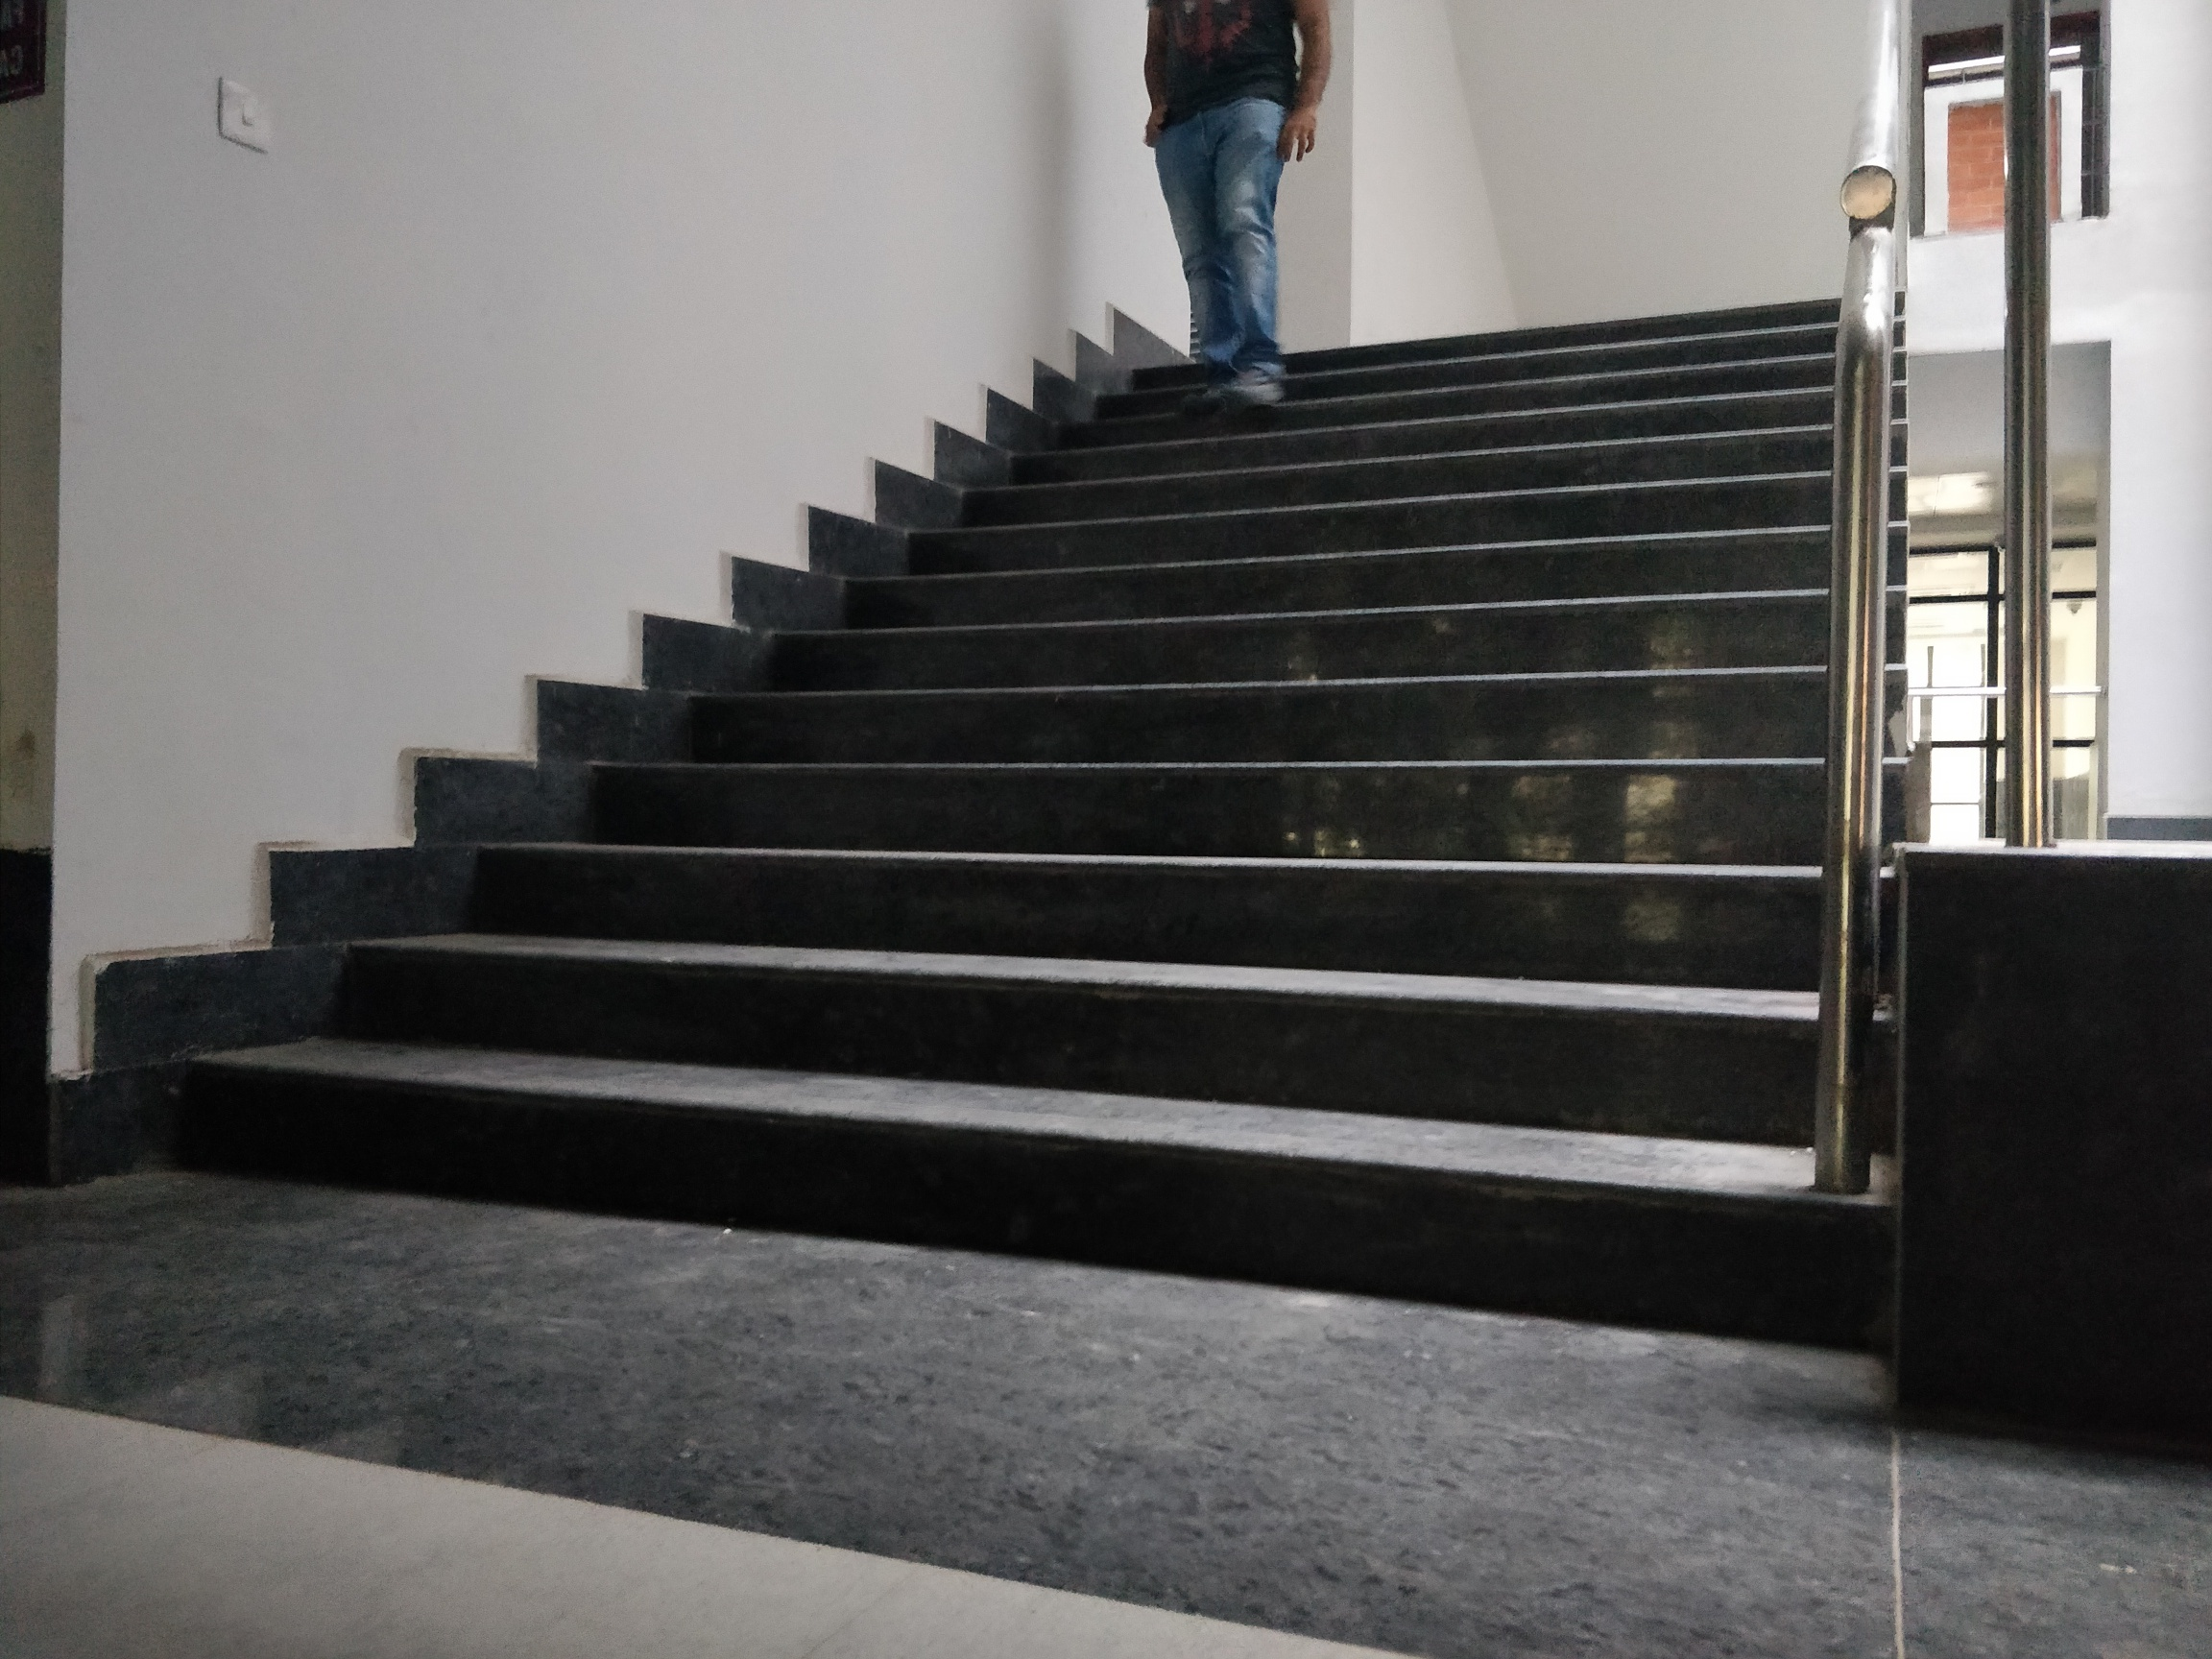stairs_up: (381, 279, 1841, 1345)
